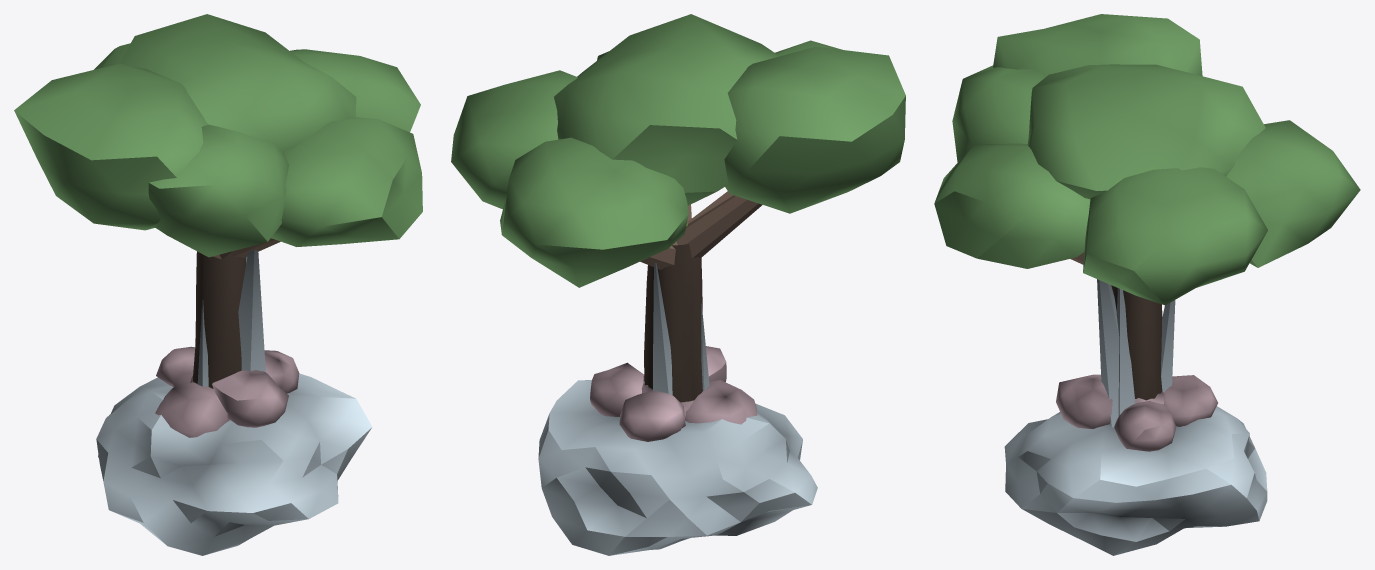
The model's file is flora.glb.
3 views of the same model, side by side, from view 1: azimuth 30°, elevation 25°; view 2: azimuth 150°, elevation 25°; view 3: azimuth 270°, elevation 25° (orthographic). The views are drawn at different scales.
Visible parts, largest first — view 1: giant_tree, iceberg, cherry, ice_spire; view 2: giant_tree, iceberg, cherry, ice_spire; view 3: giant_tree, iceberg, cherry, ice_spire.
Boxes of the visible parts, x1,y1,x2,y2 form: giant_tree: [14, 14, 422, 388]; iceberg: [96, 373, 372, 555]; cherry: [155, 346, 299, 437]; ice_spire: [195, 250, 265, 386]; giant_tree: [451, 14, 905, 402]; iceberg: [538, 380, 817, 555]; cherry: [590, 346, 757, 441]; ice_spire: [653, 262, 709, 395]; giant_tree: [934, 14, 1360, 400]; iceberg: [1004, 406, 1267, 555]; cherry: [1056, 374, 1217, 451]; ice_spire: [1097, 279, 1175, 427].
Size of the model in its own units: 21.02 by 24.55 by 20.77.
